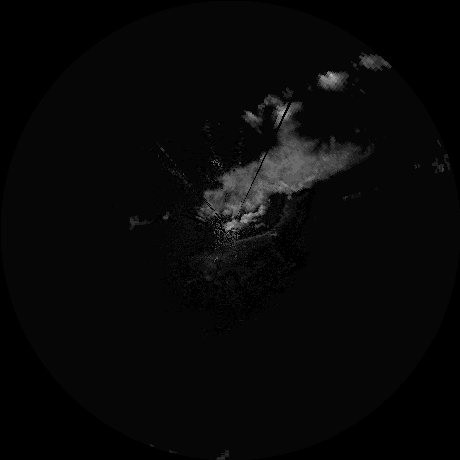frontgust: (231, 199, 293, 241)
